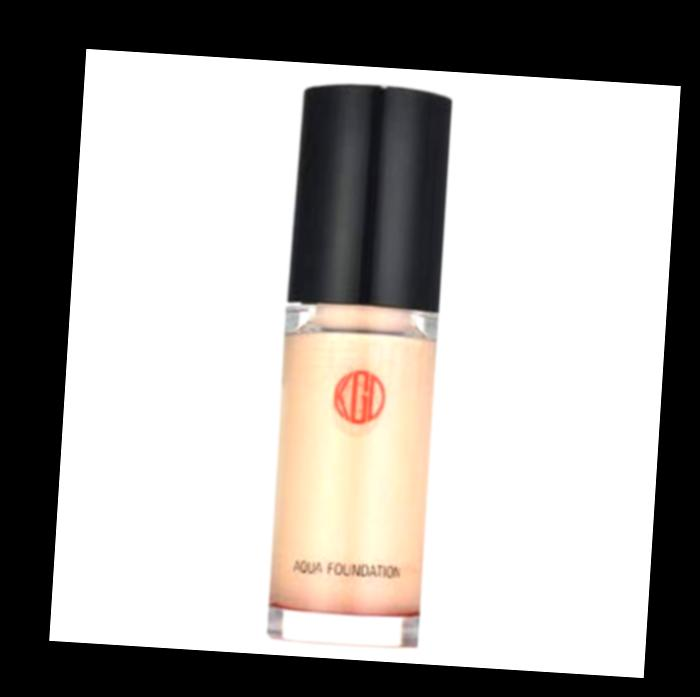cosmetic: (262, 81, 457, 653)
